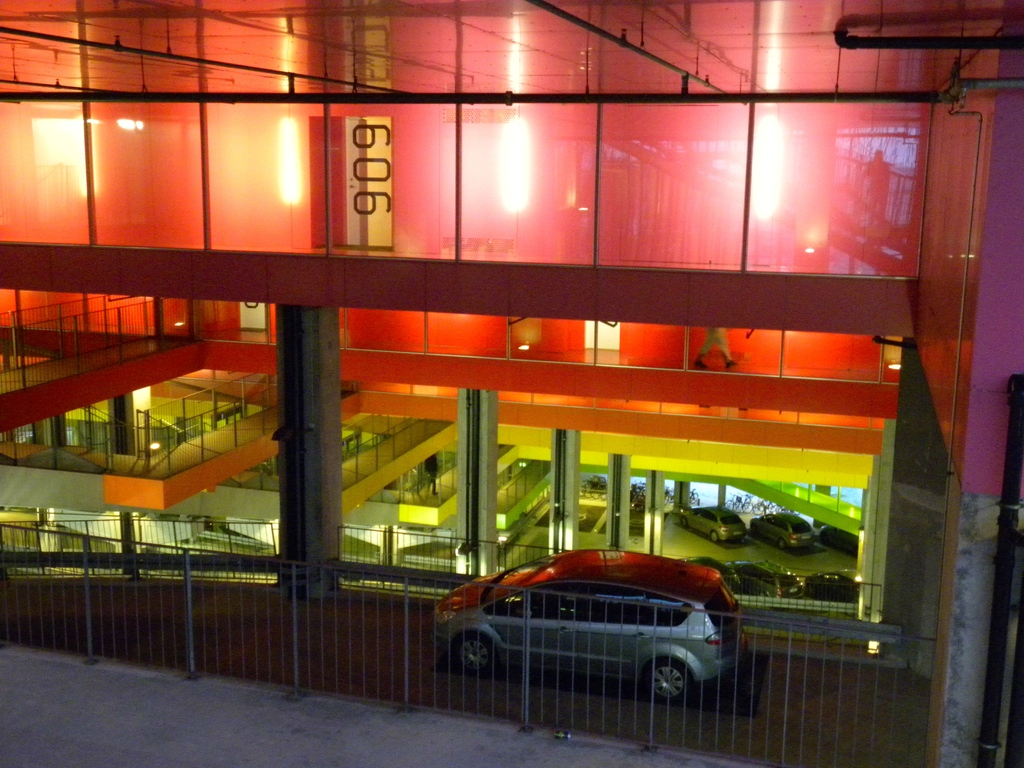Car: (424, 554, 751, 713)
